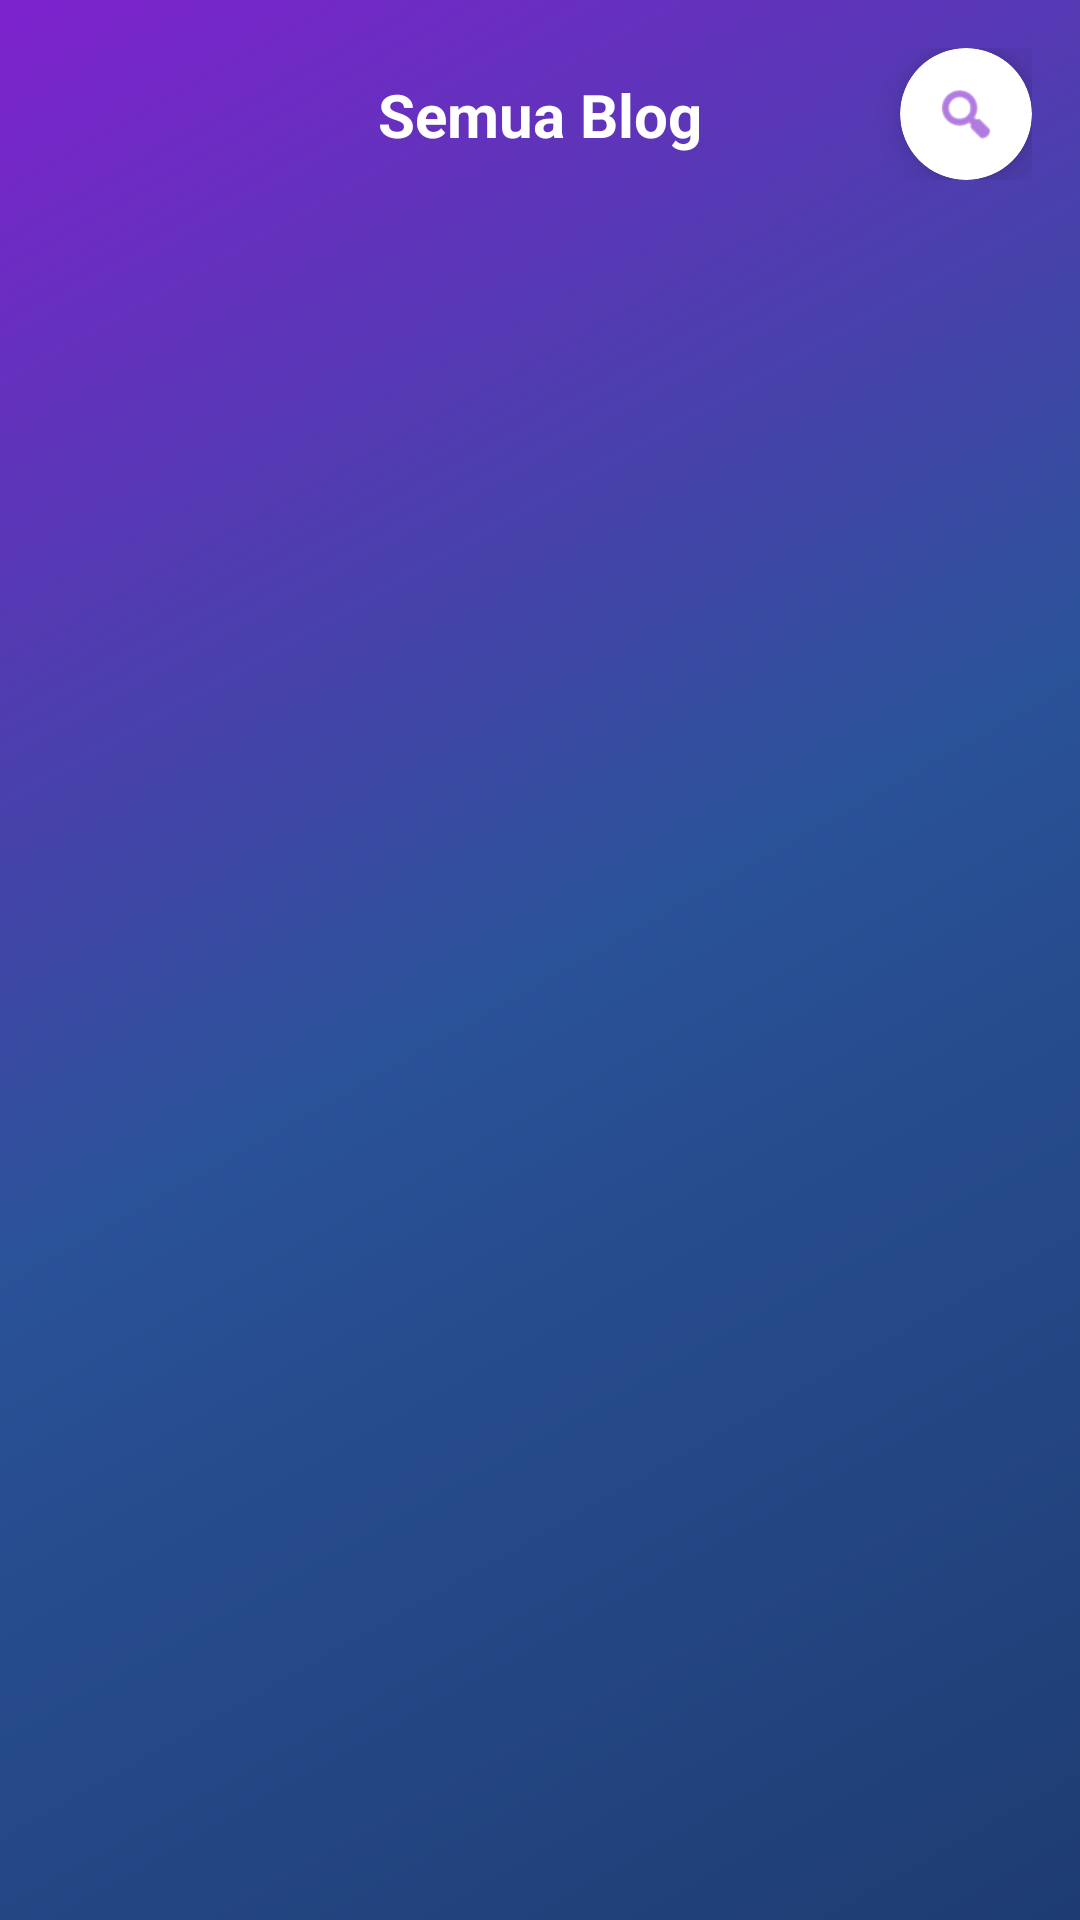

Screen size 1080 x 1920. Icon name, then its box in pixels as (x1, y1, x2, y2):
Cari: (942, 90, 990, 139)
